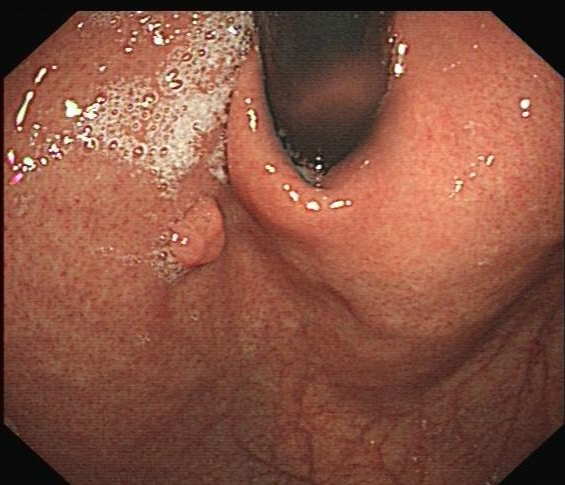Polyp: (162, 197, 228, 268)
